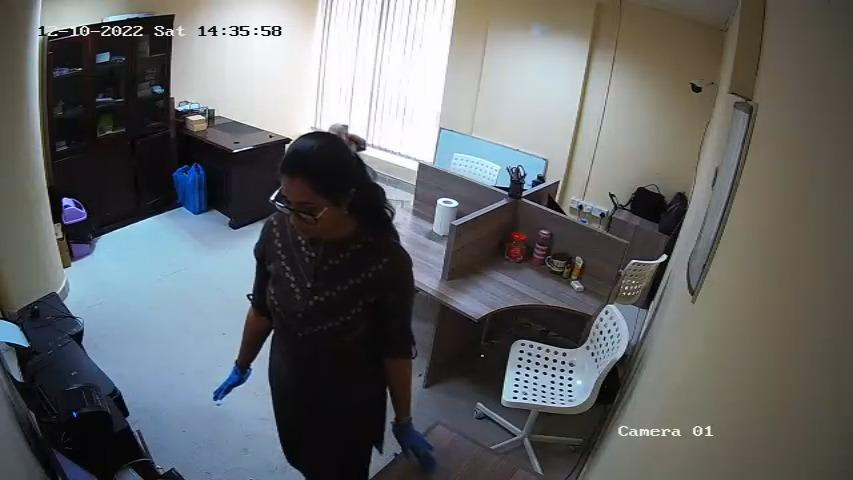gloves: (389, 415, 443, 475), (209, 360, 255, 405)
